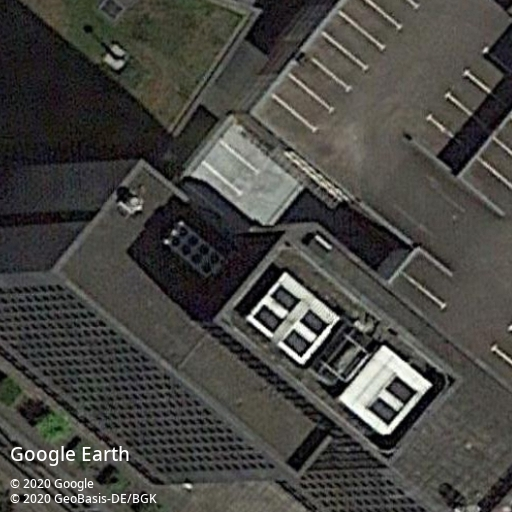Chiller: (161, 220, 230, 280)
